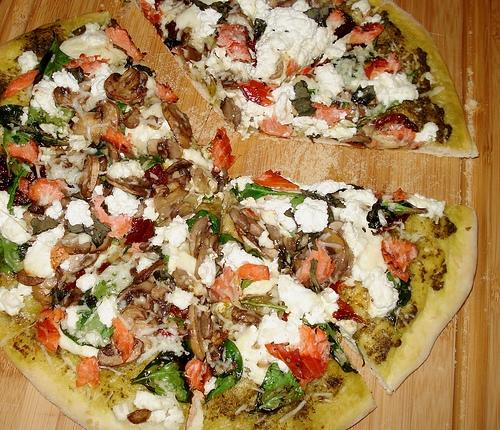tomato: (264, 341, 328, 380), (295, 238, 336, 289), (380, 236, 419, 282), (209, 126, 242, 174), (105, 26, 147, 62), (216, 20, 251, 63), (28, 177, 68, 204), (238, 79, 276, 106), (112, 317, 134, 363), (32, 318, 60, 354), (185, 359, 213, 395), (310, 101, 352, 125), (208, 266, 234, 304), (5, 138, 40, 166), (4, 70, 38, 98), (63, 54, 110, 74), (258, 111, 293, 137), (76, 355, 102, 389), (123, 216, 154, 244), (348, 23, 384, 44), (103, 127, 132, 153), (235, 264, 270, 282), (364, 56, 390, 80), (140, 0, 163, 26), (156, 80, 179, 102), (327, 10, 346, 32), (390, 188, 412, 202), (287, 59, 302, 76), (46, 310, 58, 330), (54, 308, 62, 322), (265, 170, 281, 175)
